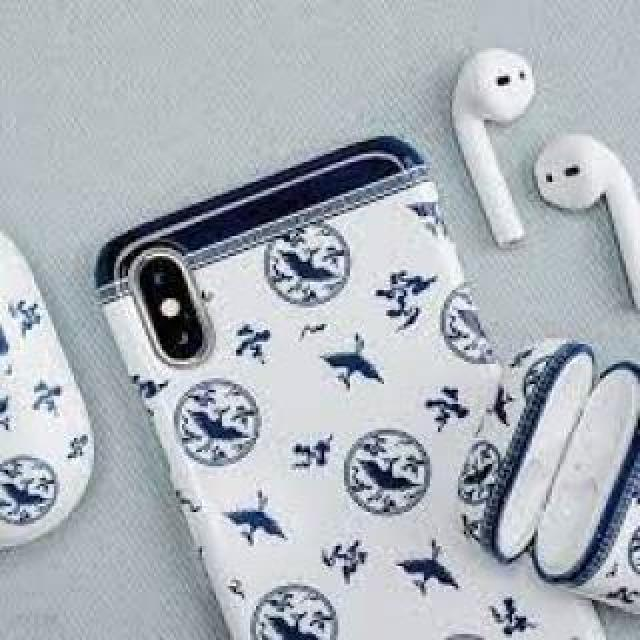earphone: (455, 18, 637, 285)
smart phone: (122, 158, 510, 640)
